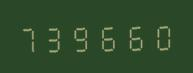nine: (70, 20, 95, 53)
seven: (17, 21, 42, 53)
six: (122, 19, 147, 52), (96, 20, 121, 52)
three: (43, 20, 68, 53)
zero: (148, 19, 173, 51)
